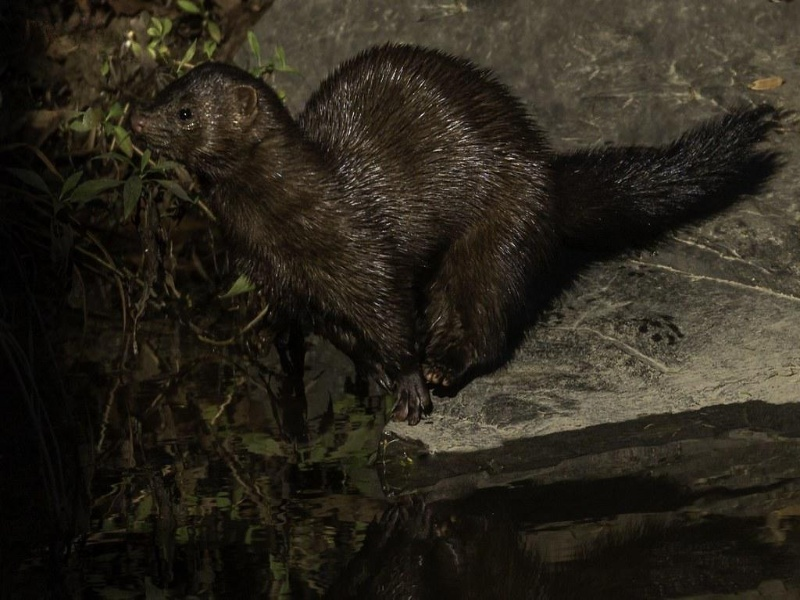minkish: (131, 46, 792, 418)
